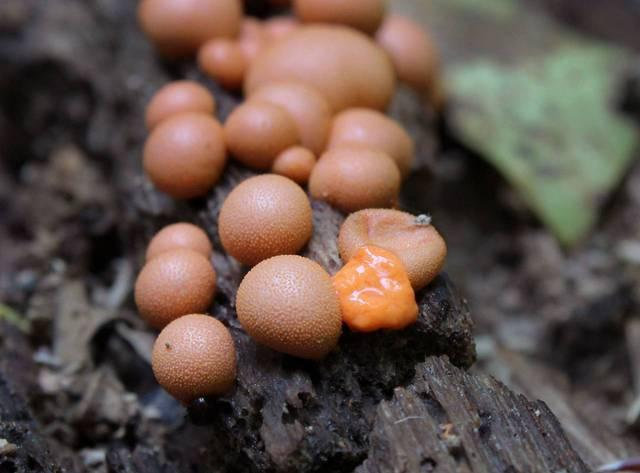poisonous_mushroom: (133, 0, 449, 405), (234, 253, 343, 358), (336, 206, 447, 290), (217, 172, 313, 265), (330, 243, 419, 332), (150, 312, 237, 403), (141, 110, 226, 198), (133, 247, 216, 327)
